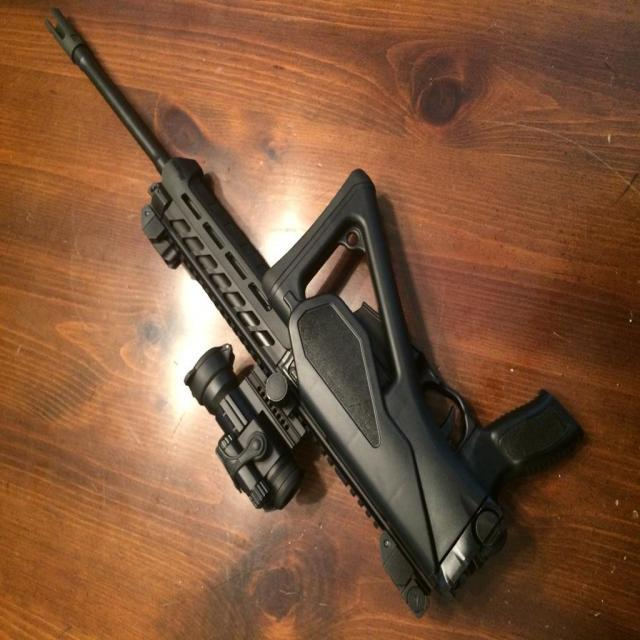weapon: (44, 7, 588, 624)
